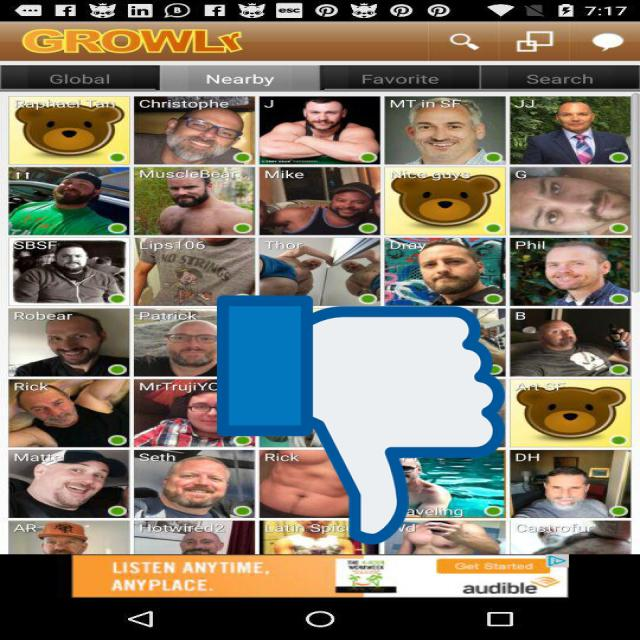obstruction: (217, 290, 505, 550)
